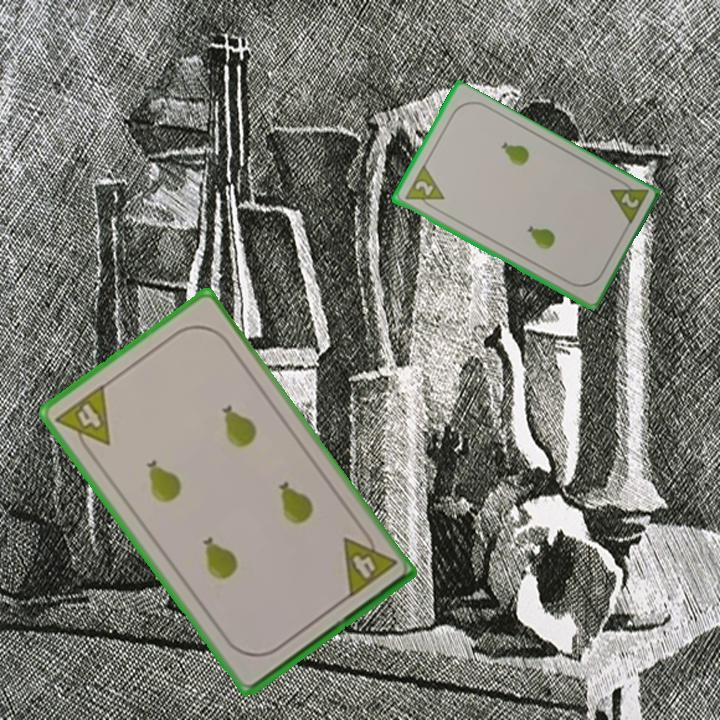2p: (605, 174, 651, 229), (401, 163, 447, 214)
4p: (51, 380, 114, 460), (338, 523, 399, 601)
